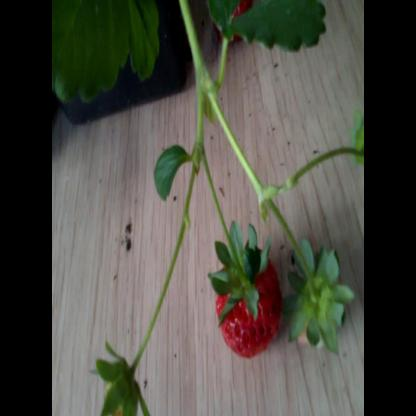ripe: (216, 241, 276, 362), (211, 1, 249, 48)
